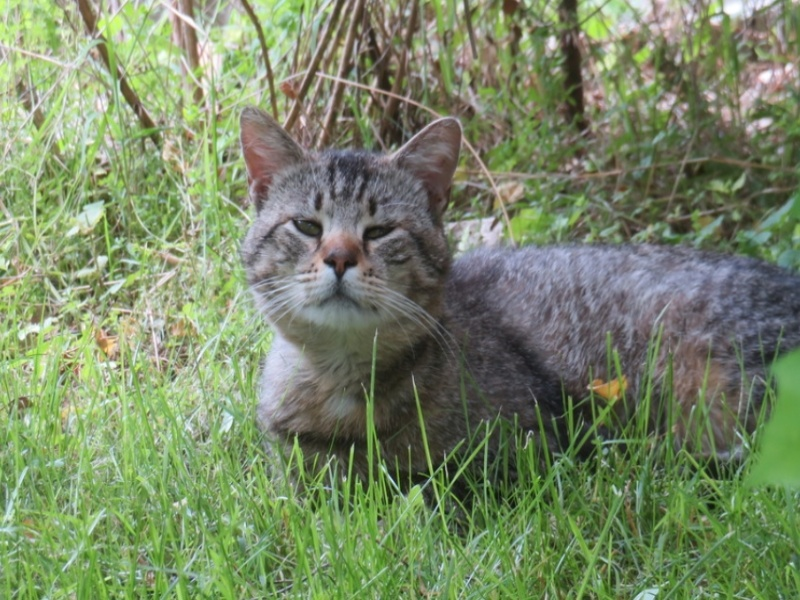cat: (236, 105, 800, 495)
